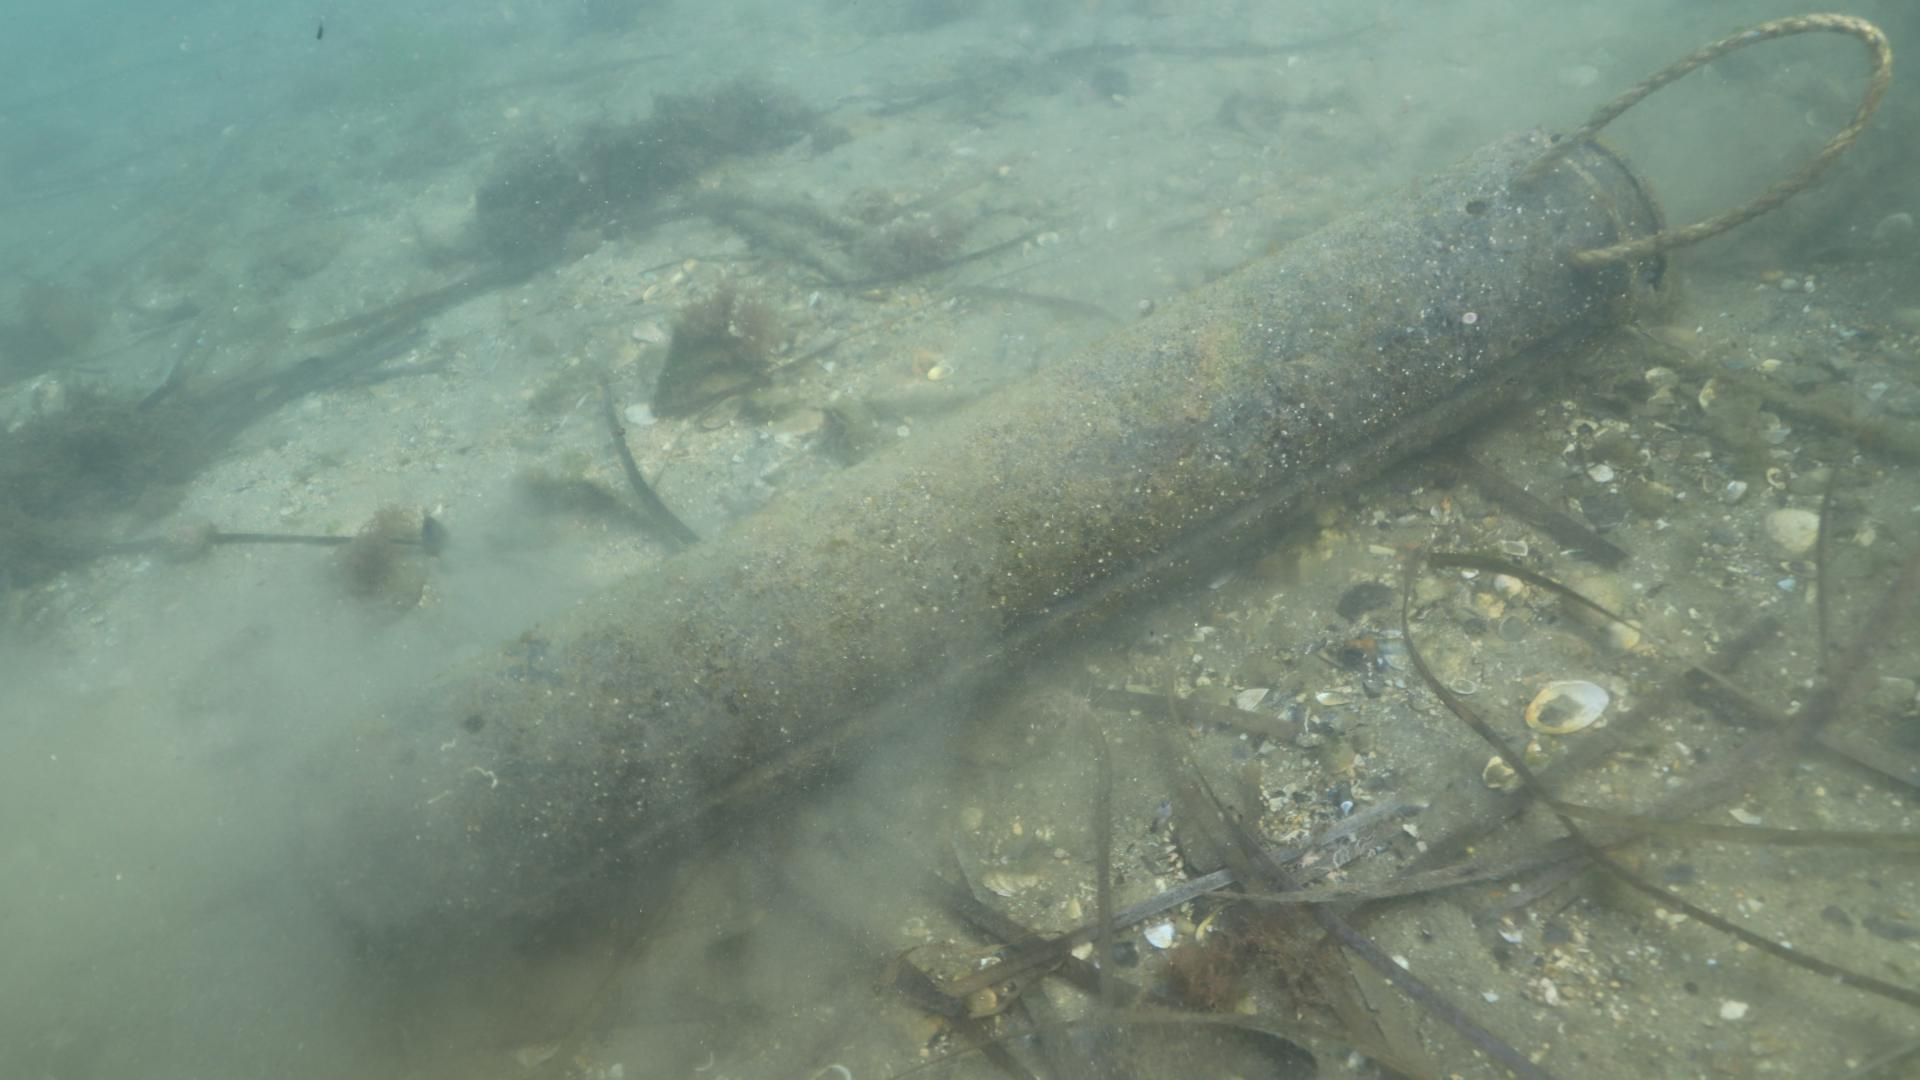eel fish trap: (270, 113, 1676, 1000)
rope: (1501, 5, 1894, 280)
